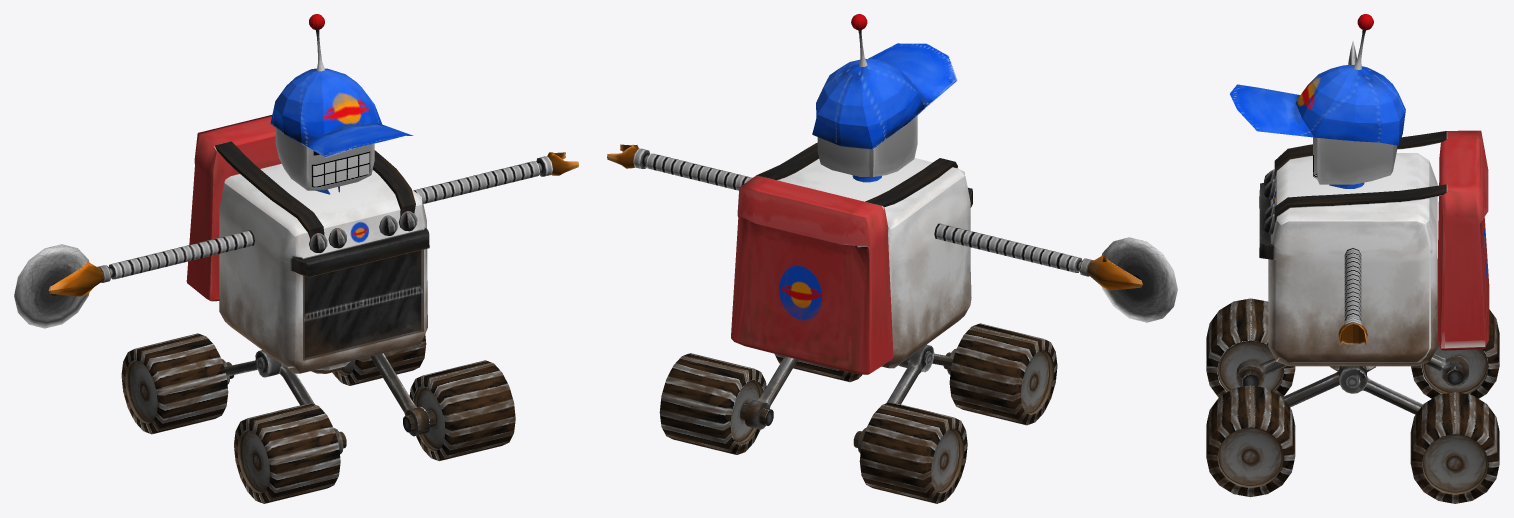
The model's file is SP_RAD_mainchar.fbx.
The picture shows the model from 3 angles, left to right: view 1: azimuth 30°, elevation 25°; view 2: azimuth 150°, elevation 25°; view 3: azimuth 270°, elevation 25°; orthographic projection.
Visible parts, largest first — view 1: body, Pizza_Bag, RF_wheel, RR_wheel, LF_wheel, Hat, Blade, R_Arm, Head, L_Arm, LR_wheel, LF_lever (+2 smaller); view 2: Pizza_Bag, body, Hat, RR_wheel, RF_wheel, LR_wheel, Blade, R_Arm, Head, L_Arm, LR_lever, RR_lever (+1 smaller); view 3: body, Pizza_Bag, Hat, LF_wheel, LR_wheel, RF_wheel, Head, RR_wheel, L_Arm, LR_lever, LF_lever, RF_lever (+1 smaller).
Part boxes in pixels (x1=…): body: x1=219, y1=164, x2=429, y2=373; Pizza_Bag: x1=186, y1=115, x2=415, y2=301; RF_wheel: x1=234, y1=403, x2=346, y2=503; RR_wheel: x1=121, y1=333, x2=234, y2=434; LF_wheel: x1=403, y1=360, x2=515, y2=461; Hat: x1=270, y1=14, x2=413, y2=157; Blade: x1=14, y1=244, x2=89, y2=328; R_Arm: x1=48, y1=230, x2=254, y2=296; Head: x1=275, y1=128, x2=374, y2=190; L_Arm: x1=413, y1=152, x2=578, y2=203; LR_wheel: x1=332, y1=334, x2=426, y2=385; LF_lever: x1=370, y1=353, x2=429, y2=436; Pizza_Bag: x1=731, y1=142, x2=957, y2=374; body: x1=778, y1=158, x2=972, y2=368; Hat: x1=812, y1=14, x2=957, y2=149; RR_wheel: x1=853, y1=402, x2=967, y2=503; RF_wheel: x1=943, y1=323, x2=1057, y2=425; LR_wheel: x1=659, y1=353, x2=773, y2=454; Blade: x1=1101, y1=237, x2=1177, y2=322; R_Arm: x1=934, y1=223, x2=1142, y2=290; Head: x1=817, y1=116, x2=917, y2=176; L_Arm: x1=607, y1=144, x2=752, y2=190; LR_lever: x1=744, y1=356, x2=797, y2=429; RR_lever: x1=857, y1=344, x2=934, y2=453; body: x1=1259, y1=153, x2=1437, y2=366; Pizza_Bag: x1=1274, y1=130, x2=1489, y2=350; Hat: x1=1229, y1=14, x2=1405, y2=145; LF_wheel: x1=1206, y1=385, x2=1295, y2=497; LR_wheel: x1=1410, y1=392, x2=1499, y2=503; RF_wheel: x1=1206, y1=298, x2=1295, y2=397; Head: x1=1313, y1=137, x2=1397, y2=184; RR_wheel: x1=1411, y1=309, x2=1499, y2=398; L_Arm: x1=1338, y1=247, x2=1367, y2=345; LR_lever: x1=1339, y1=366, x2=1422, y2=414; LF_lever: x1=1282, y1=366, x2=1366, y2=407; RF_lever: x1=1236, y1=358, x2=1286, y2=386.
Size of the model in its own units: 126 by 90.19 by 56.6.
1 material, 1 textured.
